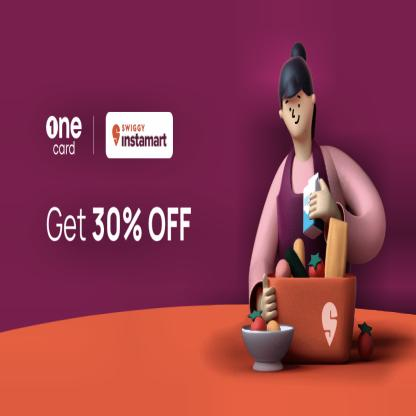Swiggy: (111, 124, 121, 147), (122, 123, 144, 133)
